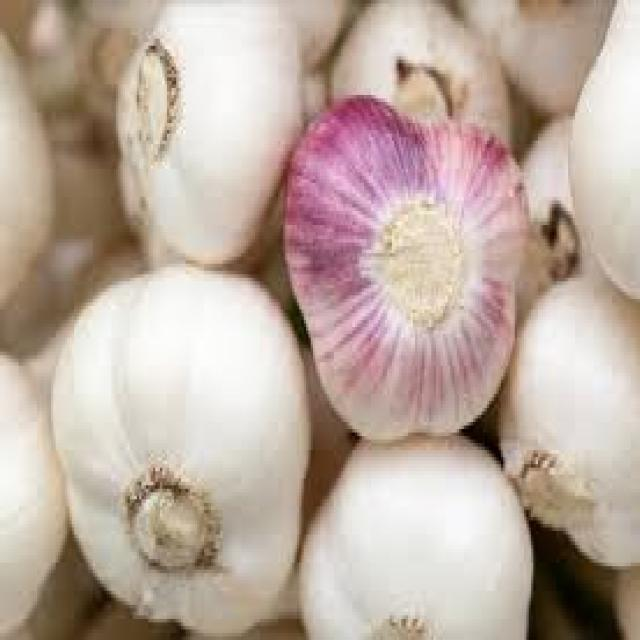Garlic: (44, 258, 312, 637), (288, 85, 532, 441), (292, 408, 529, 640), (106, 0, 302, 278), (488, 269, 640, 578), (323, 0, 524, 192), (542, 0, 640, 296), (0, 323, 80, 630), (0, 13, 65, 329)
